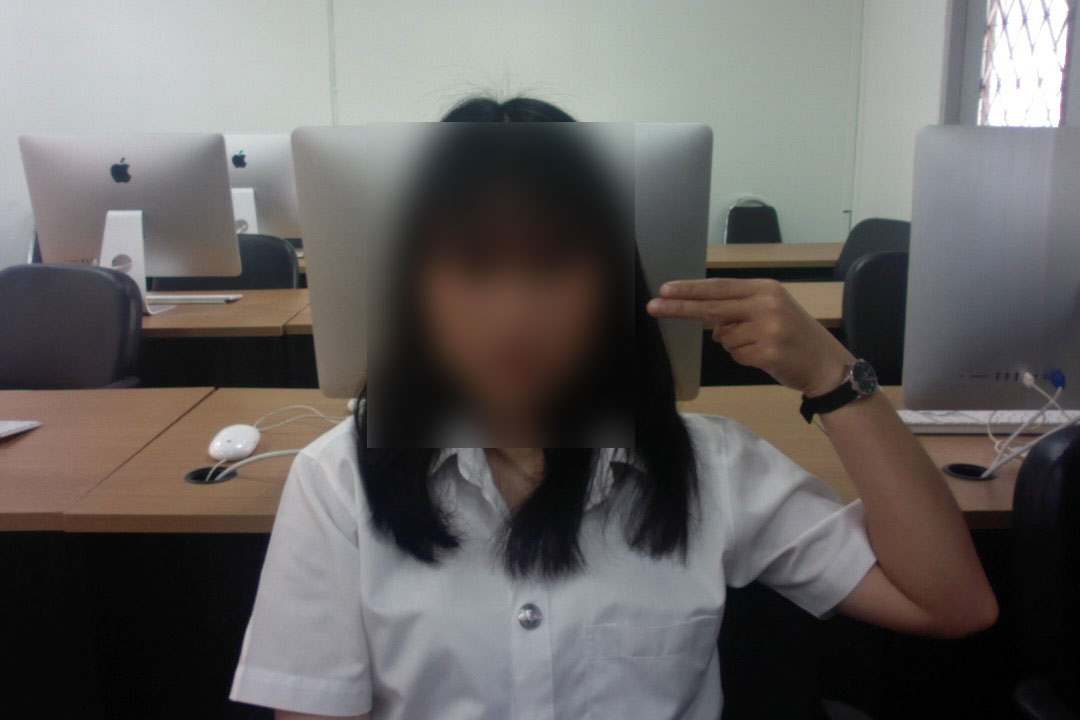hor: (640, 274, 866, 390)
